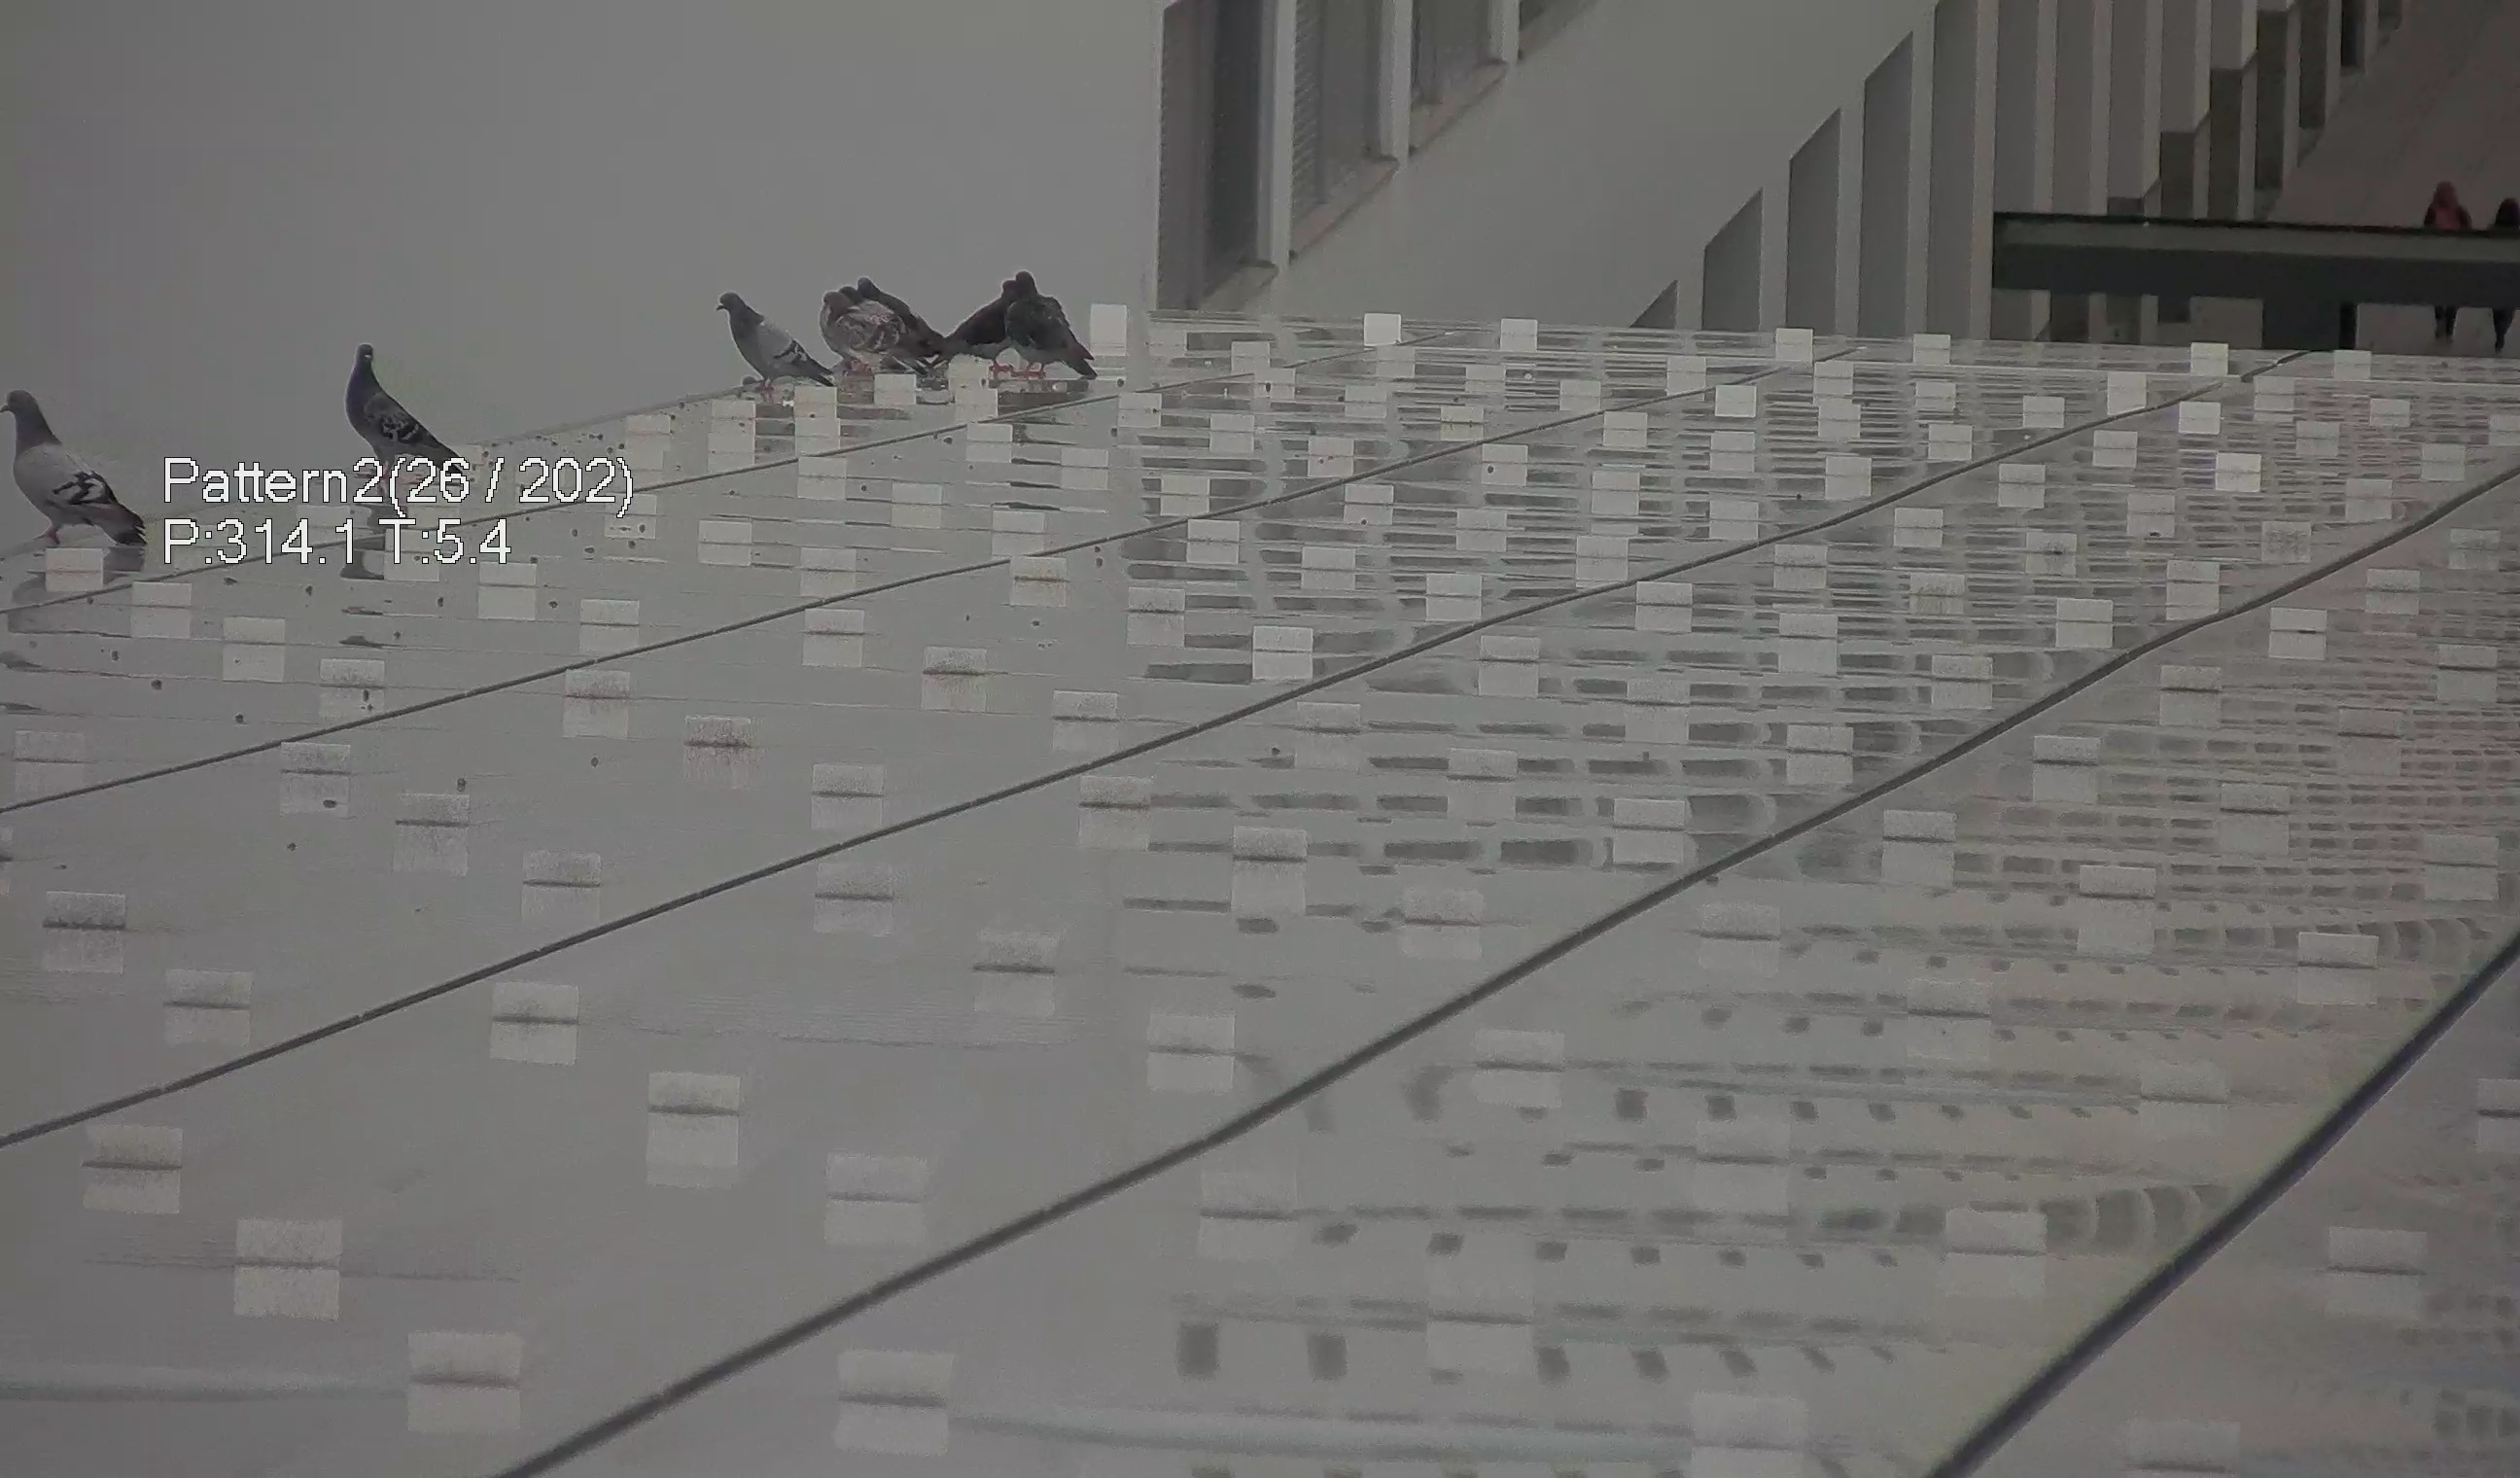Pigeon: (2, 377, 149, 577), (325, 334, 457, 501), (811, 264, 941, 384), (705, 280, 830, 389), (999, 262, 1097, 385), (932, 267, 1016, 377)
